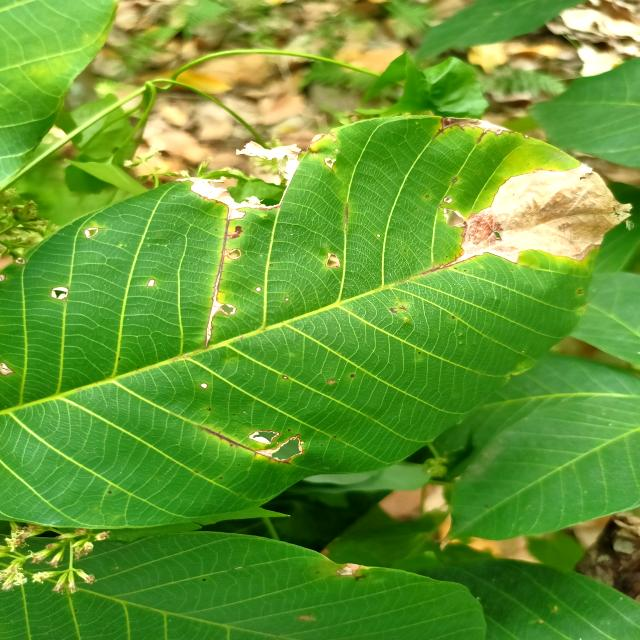Colletotrichum: (200, 382, 208, 388), (256, 286, 262, 292), (284, 298, 290, 302), (350, 374, 355, 378), (283, 376, 288, 380), (334, 148, 339, 152), (207, 407, 211, 411), (376, 234, 381, 237), (425, 195, 429, 198), (451, 316, 455, 319), (270, 264, 274, 267), (109, 491, 112, 494), (202, 579, 206, 581), (418, 352, 421, 354), (404, 249, 406, 252), (288, 429, 291, 431), (220, 477, 223, 479), (282, 434, 284, 436)
Corynespora: (205, 218, 244, 348), (197, 425, 291, 464), (420, 254, 465, 275), (432, 124, 466, 138), (476, 132, 487, 143), (389, 308, 399, 314), (398, 305, 407, 311)
Leaf-Blight: (454, 162, 633, 264), (174, 176, 279, 220), (236, 141, 302, 186), (441, 116, 513, 135), (336, 563, 362, 575), (273, 452, 302, 462), (249, 432, 271, 444), (256, 446, 280, 457), (310, 134, 326, 144), (324, 158, 336, 168), (298, 440, 303, 452)
